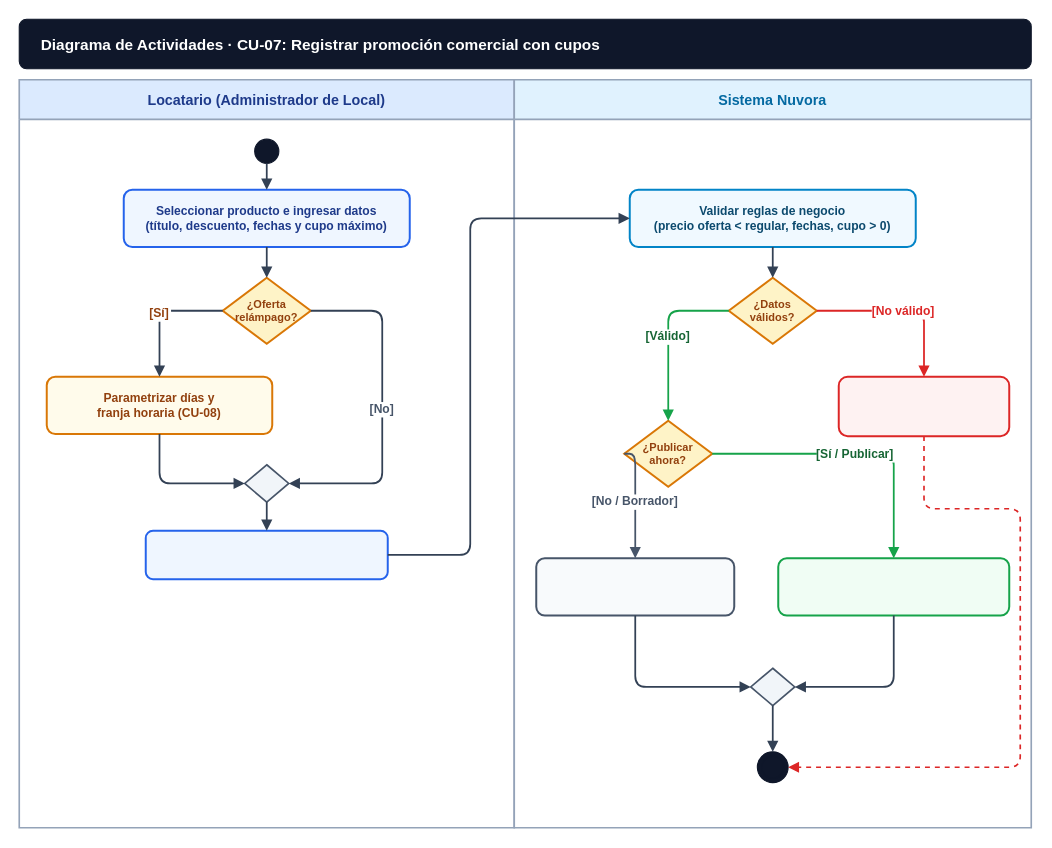
This 1052x848 diagram has some shape labels left out. The shapes that lost their labels are listed below. From the top down, each one's centre as x and y in pixels, then its label:
point 923,406: Mostrar alerta de error en formulario
point 266,554: Confirmar envío de promoción
point 635,586: Guardar promoción en estado BORRADOR
point 893,586: Guardar como ACTIVA y publicar en catálogo visible
